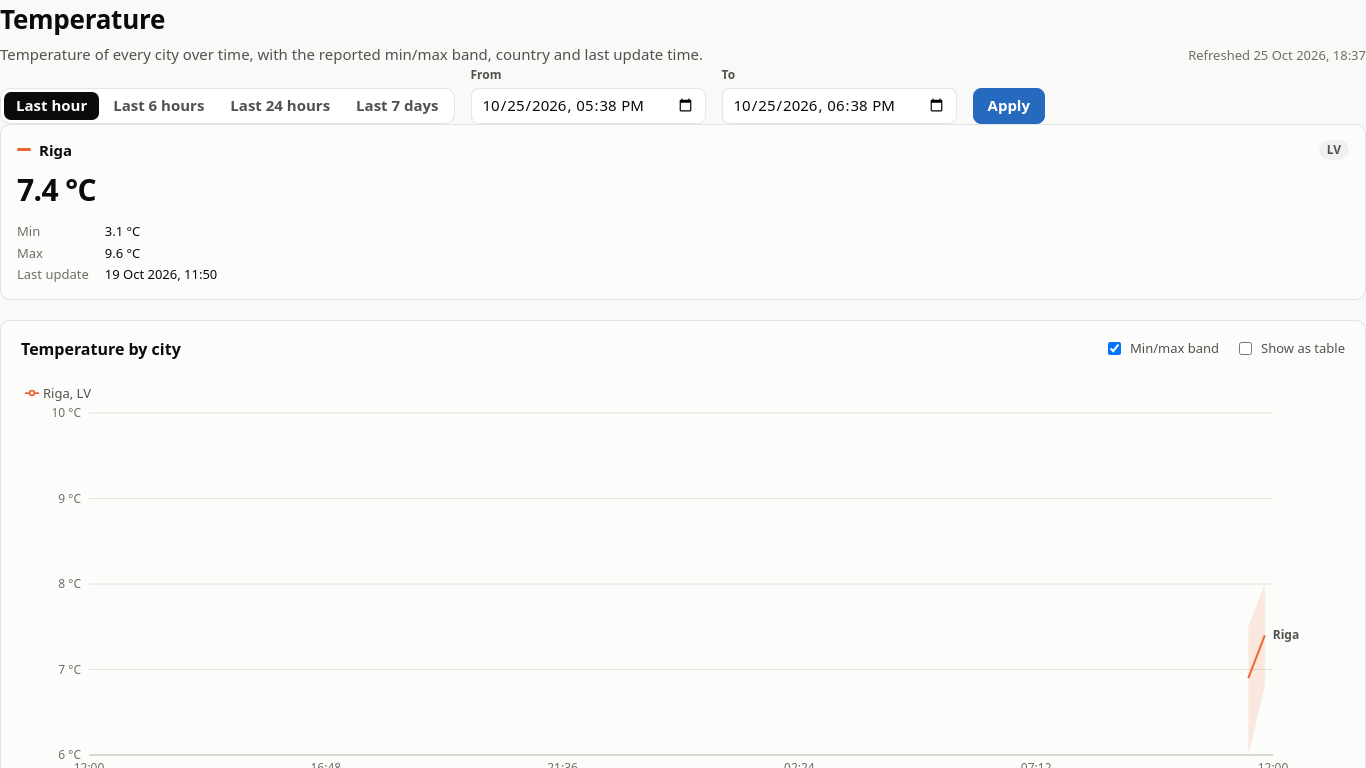
Test: ChartPage › can show every reading of the selected period as a table
The width and height of the screenshot is (1366, 768).
expect the list named "Cities in the selected period" is shown: met, box [0,124,1365,300]
What coordinates should you click on to do the following:
click the checkbox labelled "Show as table"
I would click on:
 (1246, 348)
Its box is [1239,342,1252,355].
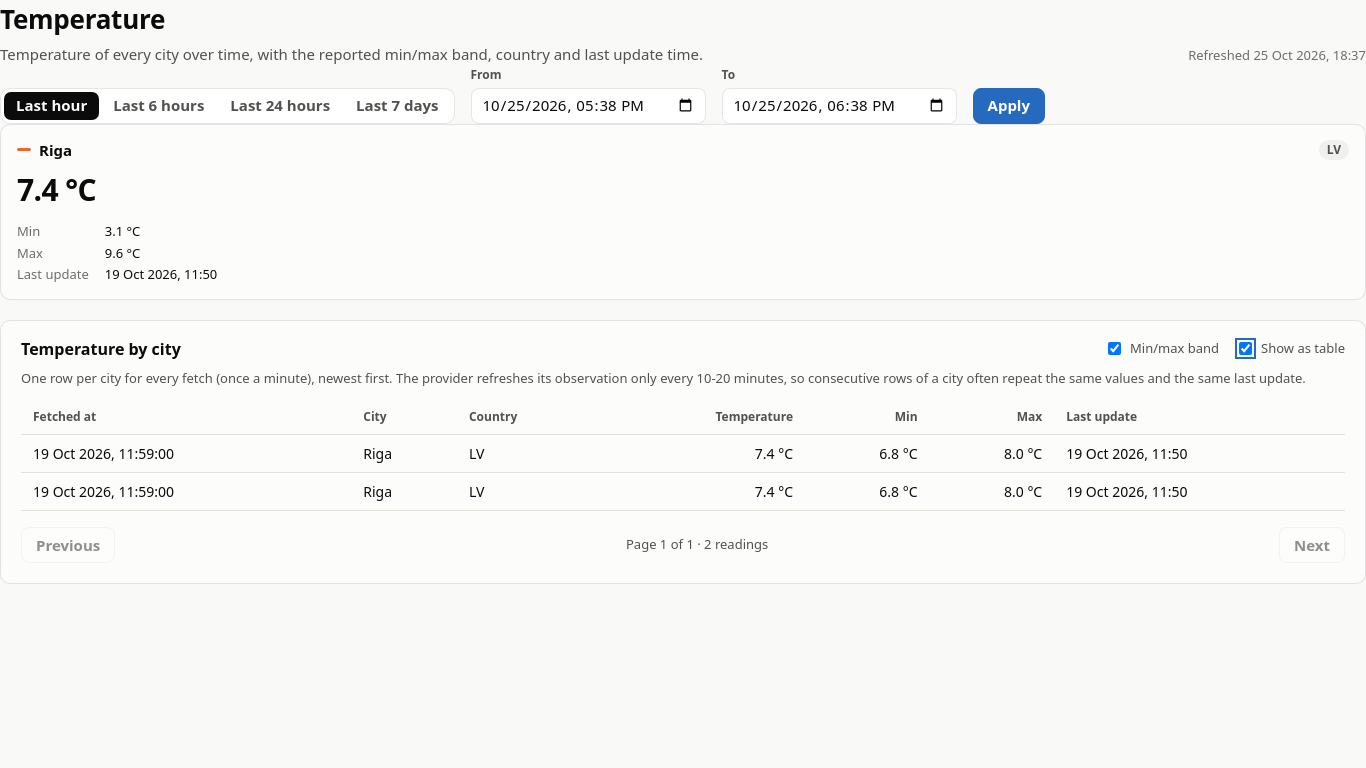
expect the number of rows is 3: met, box [21,400,1345,434]; [21,435,1345,472]; [21,472,1345,510]
